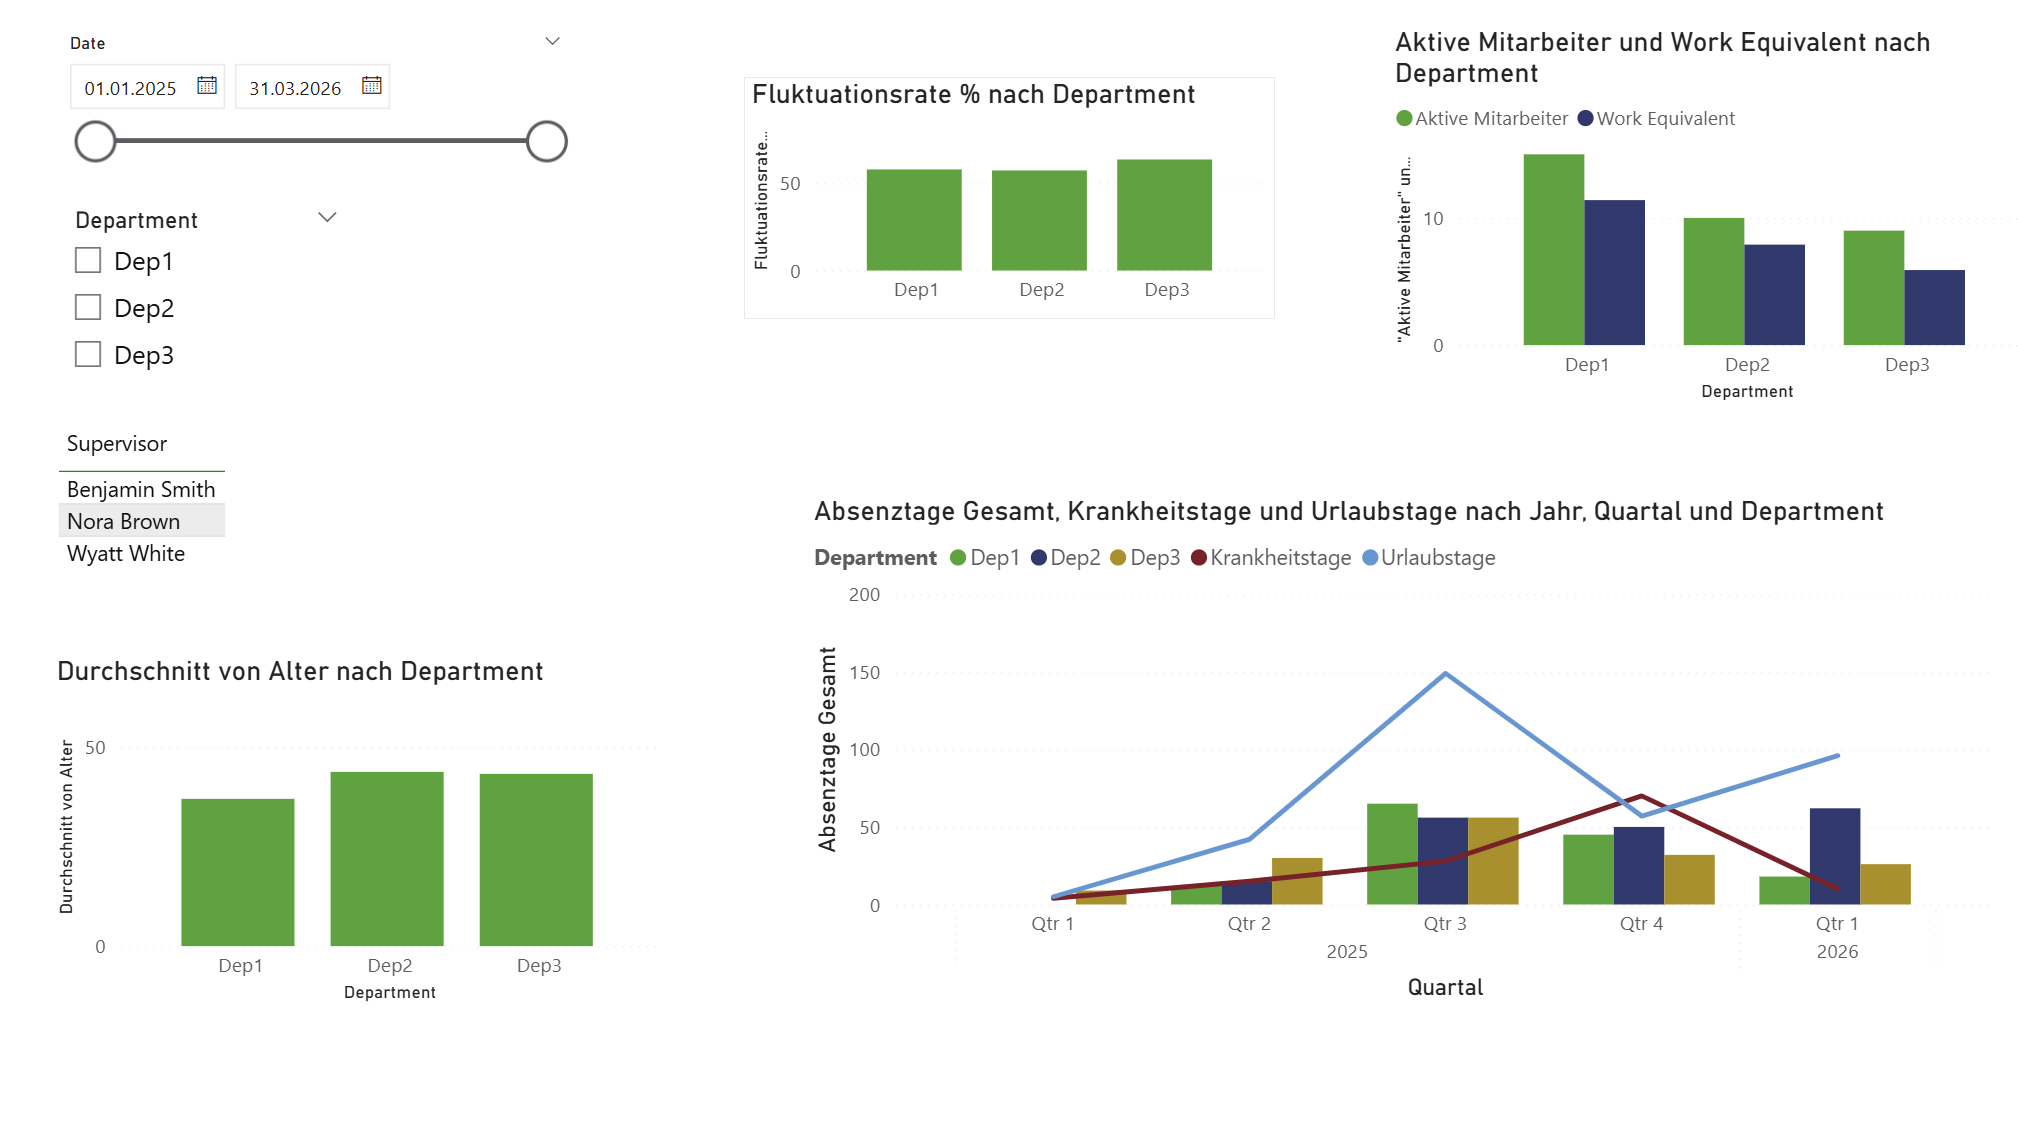

The dashboard page shown, as its layout file describes it:
{"tool":"powerbi","page":{"name":"Department-Analyse","canvas":[1280,720],"ordinal":2},"visuals":[{"type":"clusteredColumnChart","fields":{"Category":["MitarbeiterTabelle.Department"],"Y":["MitarbeiterTabelle.Aktive Mitarbeiter","MitarbeiterTabelle.Work Equivalent"]},"box":[873.5,27.8,406.3,237],"z":0},{"type":"slicer","fields":{"Values":["MitarbeiterTabelle.Department"]},"box":[48.9,135.4,188.1,136.2],"z":1000},{"type":"columnChart","fields":{"Category":["MitarbeiterTabelle.Department"],"Y":["Avg(MitarbeiterTabelle.Alter)"]},"box":[45.9,416.8,382.2,219.7],"z":2000},{"type":"slicer","fields":{"Values":["Kalender.Date"]},"box":[45.9,27.8,328.8,107.6],"z":3000},{"type":"columnChart","fields":{"Category":["MitarbeiterTabelle.Department"],"Y":["MitarbeiterTabelle.Fluktuationsrate %"]},"box":[475.5,60.2,328.8,149.7],"z":4000},{"type":"lineClusteredColumnComboChart","fields":{"Category":["Kalender.Date.Variation.Datumshierarchie.Jahr","Kalender.Date.Variation.Datumshierarchie.Quartal","Kalender.Date.Variation.Datumshierarchie.Monat","Kalender.Date.Variation.Datumshierarchie.Tag"],"Y":["MitarbeiterTabelle.Absenztage Gesamt"],"Series":["MitarbeiterTabelle.Department"],"Y2":["MitarbeiterTabelle.Krankheitstage","MitarbeiterTabelle.Urlaubstage"]},"box":[513.9,318.2,740.3,318.2],"z":5000},{"type":"tableEx","fields":{"Values":["MitarbeiterTabelle.Supervisor"]},"box":[45.9,271.6,282.1,114.4],"z":6000}]}

Visuals, with their boxes in screenshot pixels (x1, y1, x2, y2), scaled from the page's 1280x720 canvas onto the 2018x1125 screenshot:
clusteredColumnChart - MitarbeiterTabelle.Department x MitarbeiterTabelle.Aktive Mitarbeiter: detection(1377, 43, 2017, 414)
slicer - MitarbeiterTabelle.Department: detection(77, 212, 374, 424)
columnChart - MitarbeiterTabelle.Department x Avg(MitarbeiterTabelle.Alter): detection(72, 651, 675, 995)
slicer - Kalender.Date: detection(72, 43, 591, 212)
columnChart - MitarbeiterTabelle.Department x MitarbeiterTabelle.Fluktuationsrate %: detection(750, 94, 1268, 328)
lineClusteredColumnComboChart - Kalender.Date.Variation.Datumshierarchie.Jahr x Kalender.Date.Variation.Datumshierarchie.Quartal: detection(810, 497, 1977, 994)
tableEx - MitarbeiterTabelle.Supervisor: detection(72, 424, 517, 603)
